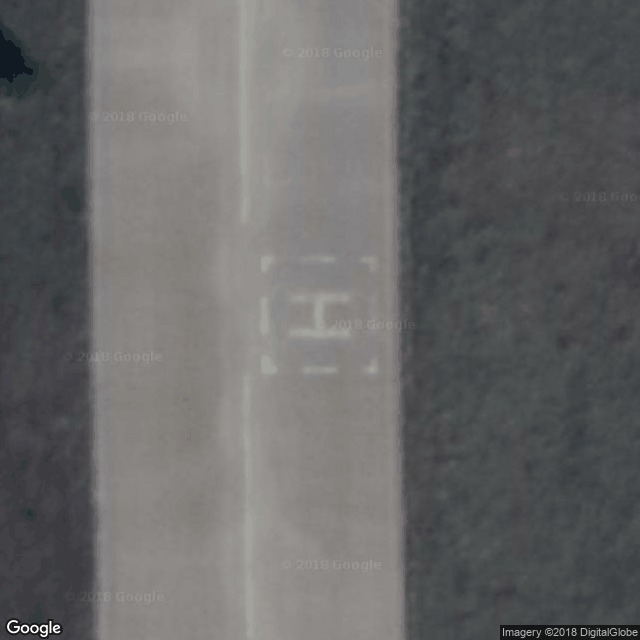heliport: (283, 283, 363, 350)
